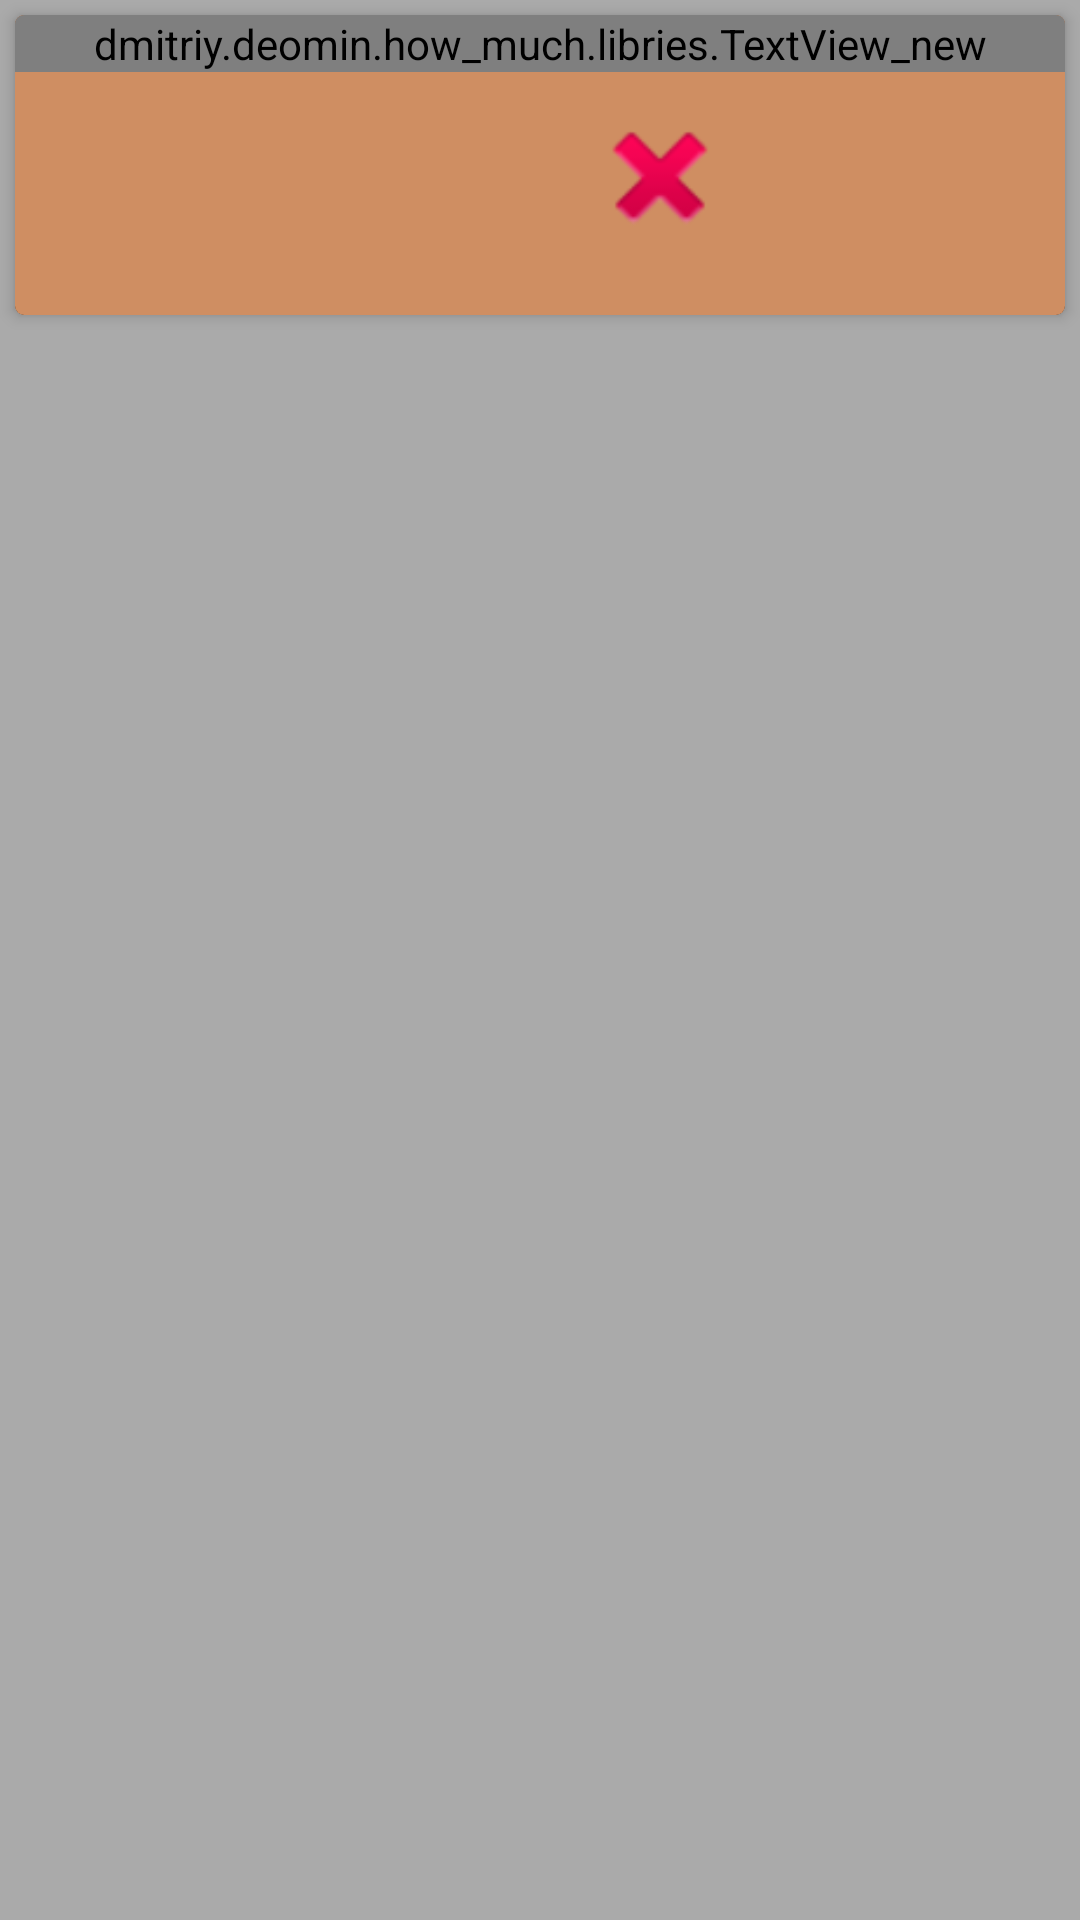

Where icons sit on this 1080px x 1920px app screen, as (x1, y1, x2, y2):
delete: (613, 132, 707, 222)
